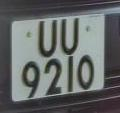0: (74, 52, 97, 93)
1: (64, 53, 77, 96)
2: (42, 54, 67, 98)
9: (19, 55, 44, 102)
U: (36, 16, 60, 61), (58, 15, 83, 58)
